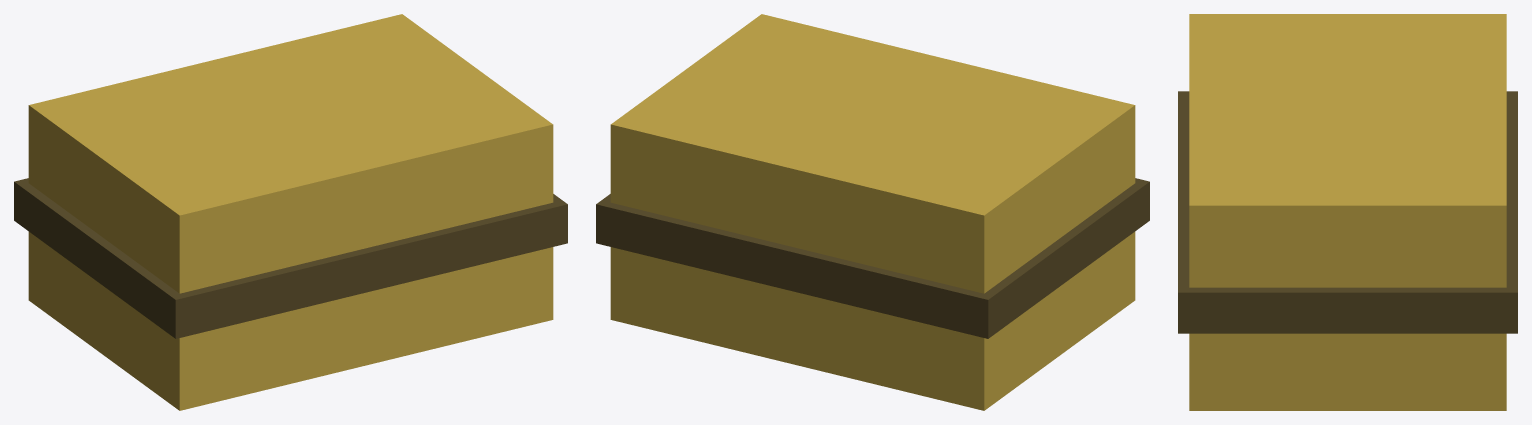
File: ammo.glb
3 renders of one model, left to right at view 1: azimuth 30°, elevation 25°; view 2: azimuth 150°, elevation 25°; view 3: azimuth 270°, elevation 25°, orthographic. The views are drawn at different scales.
Visible parts, largest first — view 1: ammo; view 2: ammo; view 3: ammo.
Part boxes in pixels (x1,y1,x2,y2): ammo: [14, 14, 567, 410]; ammo: [596, 14, 1149, 410]; ammo: [1178, 14, 1517, 410].
Size of the model in its own units: 0.42 by 0.2 by 0.3.
Materials: 1 (1 with a texture image).
